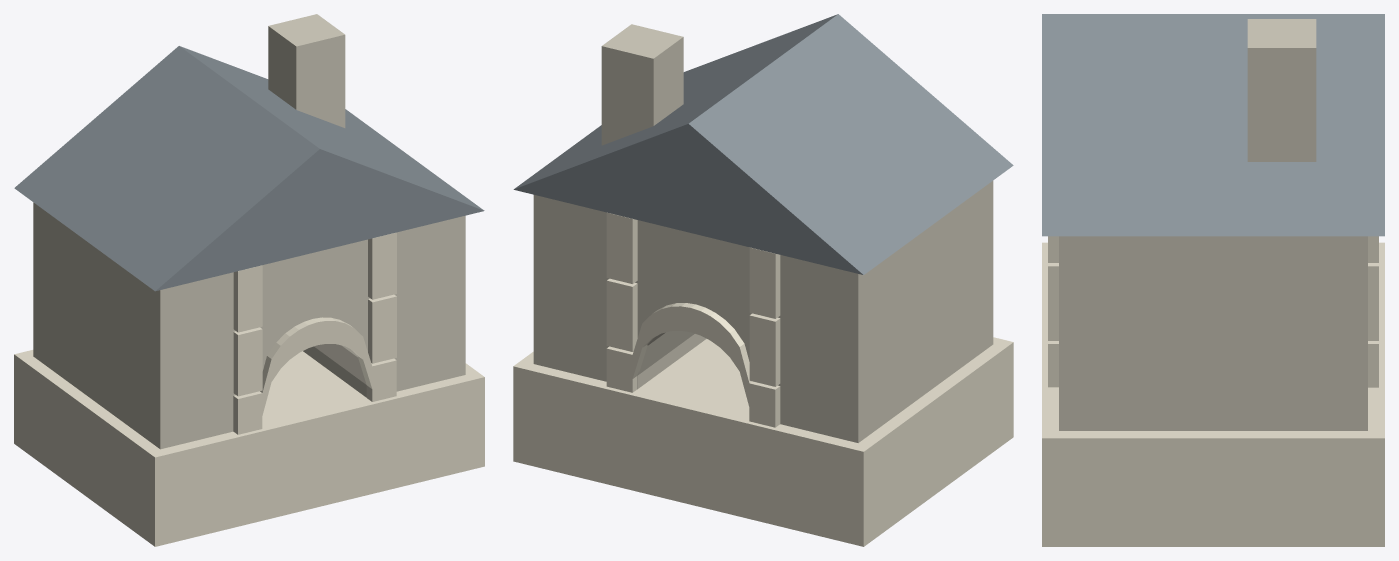
File: bread-oven.glb
3 views of the same model, side by side, from view 1: azimuth 30°, elevation 25°; view 2: azimuth 150°, elevation 25°; view 3: azimuth 270°, elevation 25° (orthographic). The views are drawn at different scales.
Visible parts, largest first — view 1: bread-oven; view 2: bread-oven; view 3: bread-oven.
Part boxes in pixels (x1,y1,x2,y2): bread-oven: [14, 14, 484, 546]; bread-oven: [513, 14, 1013, 546]; bread-oven: [1042, 14, 1384, 546].
Size of the model in its own units: 2.7 by 3 by 2.
